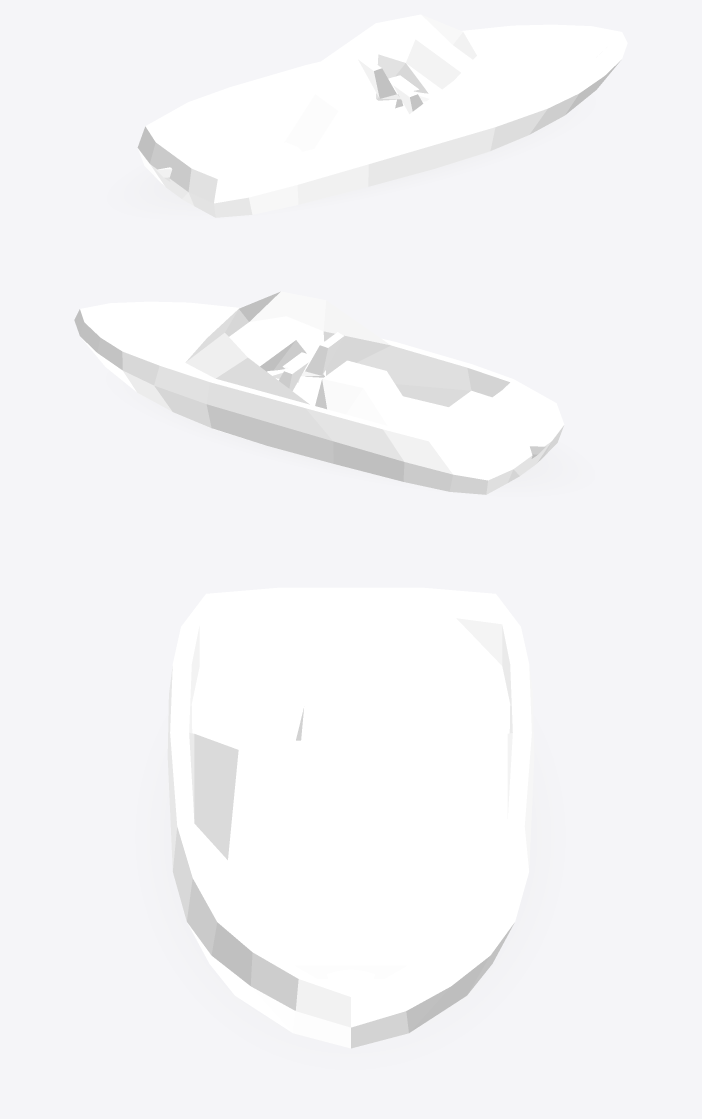
The model's file is AIS_Powerboat-A_001.glb.
3 views of the same model, one above another, from view 1: azimuth 30°, elevation 25°; view 2: azimuth 150°, elevation 25°; view 3: azimuth 270°, elevation 25° (orthographic). The views are drawn at different scales.
Visible parts, largest first — view 1: AIS_PowerBoat-A.001, SurfaceGraphic_whiteGlow.014, AIS_Kayak-A.002, AIS_JetSki-A.001; view 2: AIS_PowerBoat-A.001, SurfaceGraphic_whiteGlow.014, AIS_Kayak-A.002, AIS_JetSki-A.001; view 3: AIS_PowerBoat-A.001.
Boxes of the visible parts, x1=… form: AIS_PowerBoat-A.001: x1=137, y1=14, x2=627, y2=217; SurfaceGraphic_whiteGlow.014: x1=146, y1=129, x2=540, y2=208; AIS_Kayak-A.002: x1=156, y1=65, x2=579, y2=181; AIS_JetSki-A.001: x1=382, y1=91, x2=434, y2=128; AIS_PowerBoat-A.001: x1=74, y1=291, x2=564, y2=494; SurfaceGraphic_whiteGlow.014: x1=161, y1=406, x2=555, y2=485; AIS_Kayak-A.002: x1=122, y1=342, x2=545, y2=458; AIS_JetSki-A.001: x1=267, y1=368, x2=319, y2=405; AIS_PowerBoat-A.001: x1=167, y1=587, x2=534, y2=1048.
Bounding box in the file's own units: 8.27 × 1.31 × 3.22.
2 materials, 1 textured.
